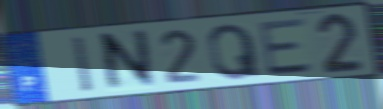2: (314, 11, 367, 77), (158, 27, 204, 86)
E: (256, 16, 318, 79)
I: (70, 34, 97, 95)
N: (101, 27, 157, 95)
Q: (205, 21, 264, 82)
